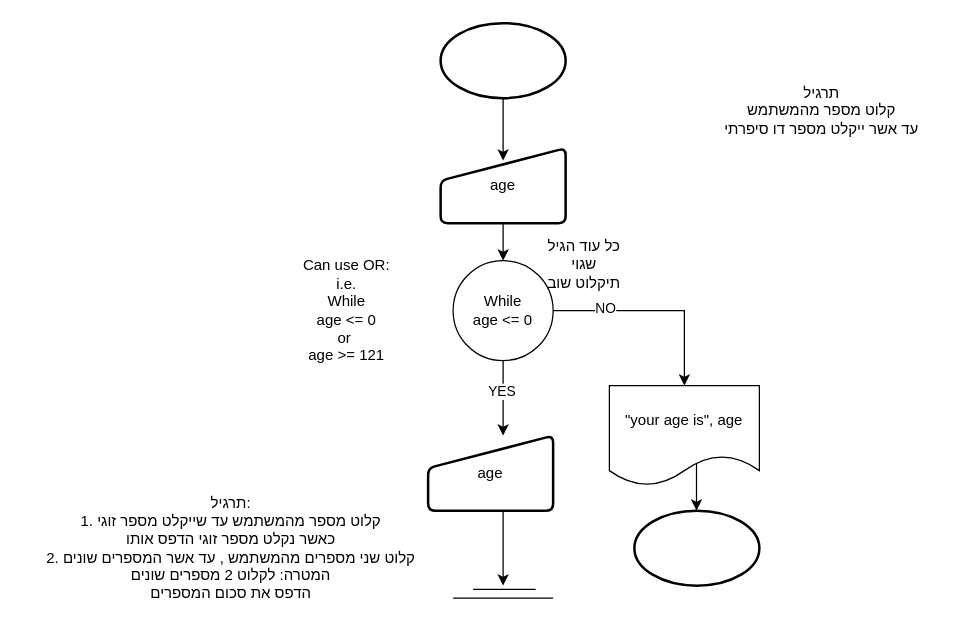
This 955x623 diagram has some shape labels left out. The shapes that lost their labels are listed below. From the top down, each one's box as (x1, y1, x2, y2) in pixels, then its label:
(439, 21, 566, 99): START
(632, 509, 760, 586): STOP
